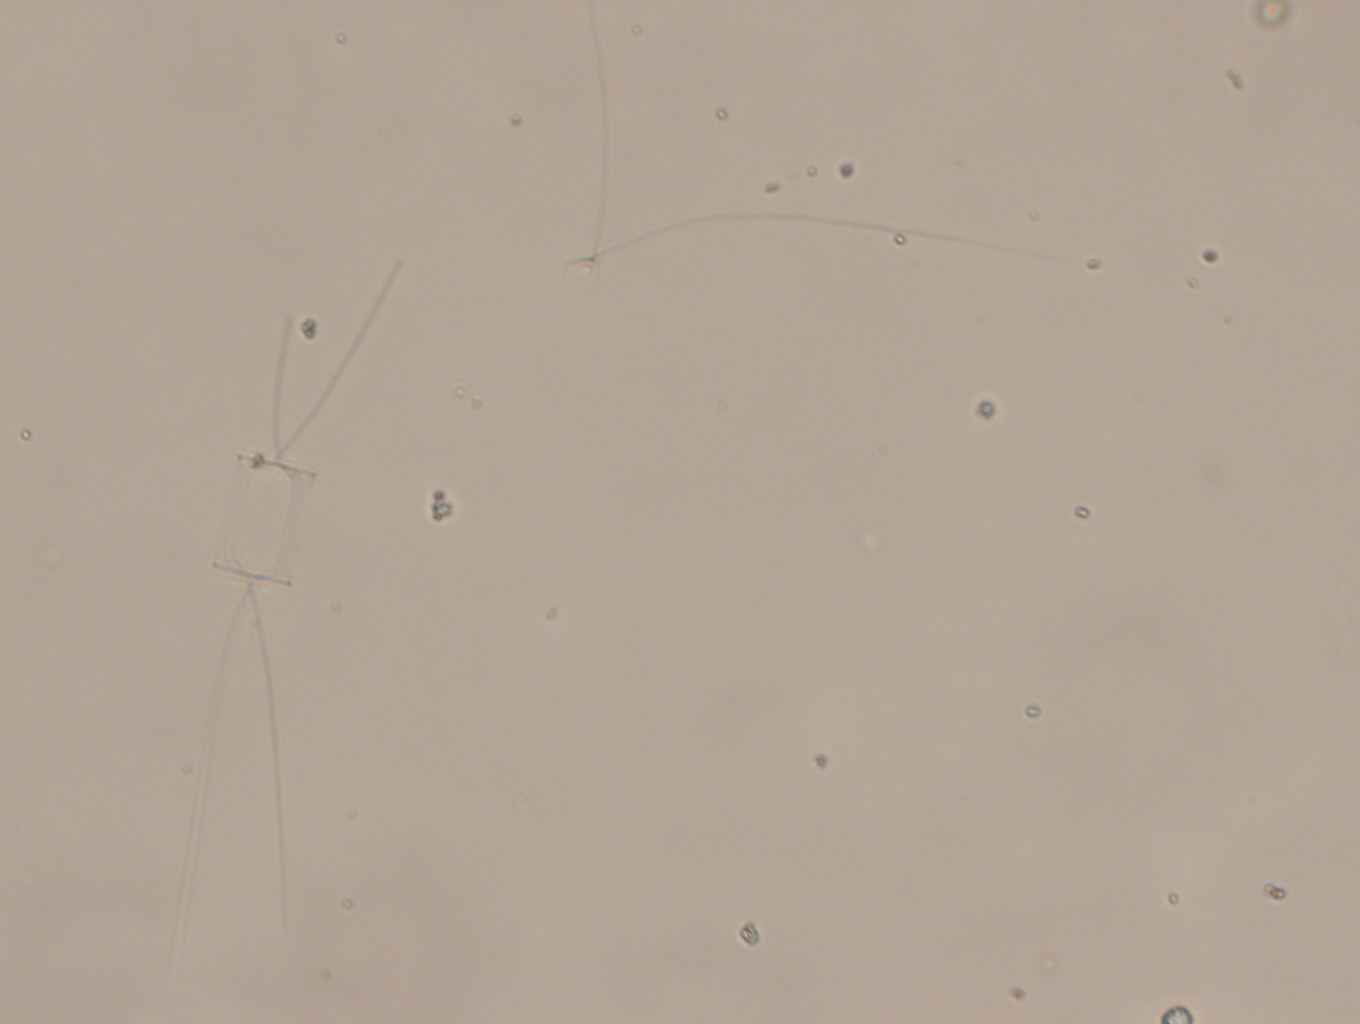chaetoceros: (180, 254, 409, 904)
